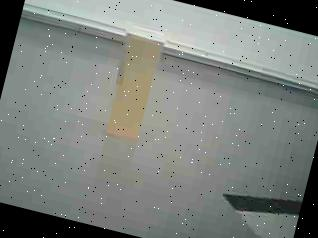Bottle A: (94, 16, 178, 148)
